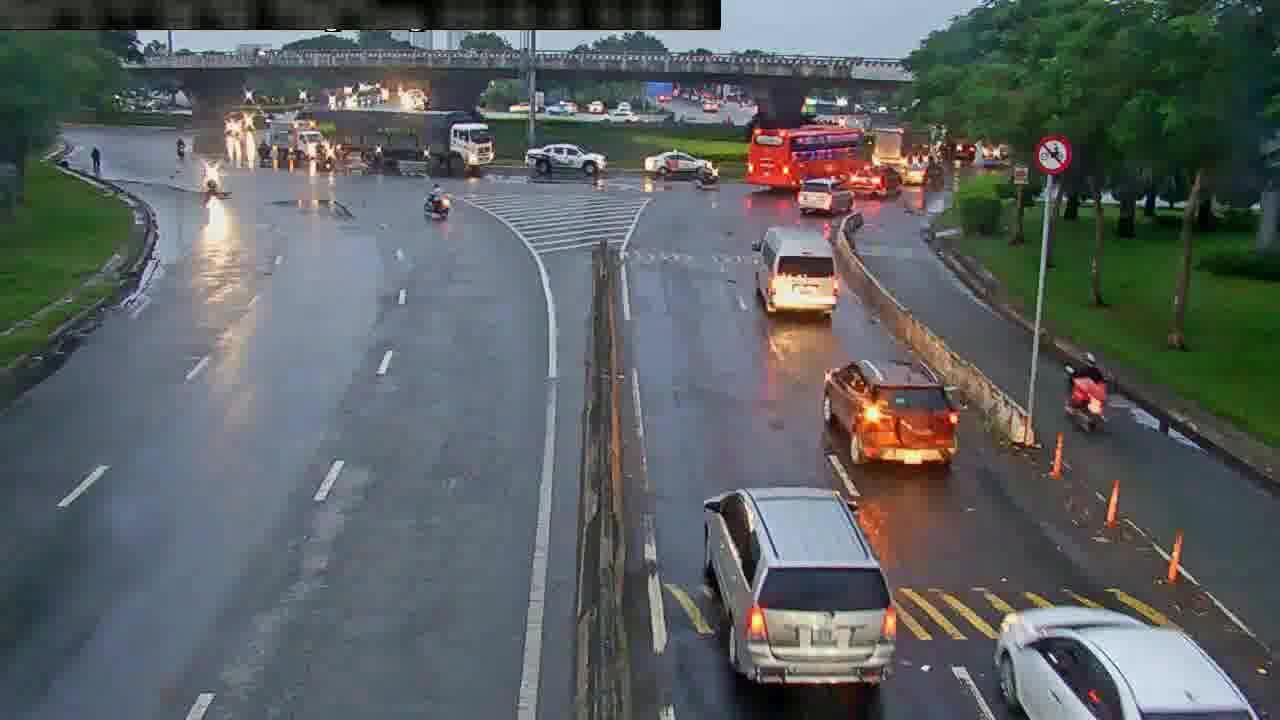car: (695, 488, 893, 681), (993, 613, 1256, 720), (819, 362, 958, 468), (525, 142, 605, 176), (796, 175, 853, 214), (848, 164, 905, 202), (906, 163, 948, 191)
container: (330, 103, 496, 174), (265, 117, 329, 168)
motorbike: (1060, 355, 1105, 424), (421, 178, 447, 221), (200, 159, 225, 191)
passenger_car: (754, 221, 840, 313), (750, 125, 872, 185)
